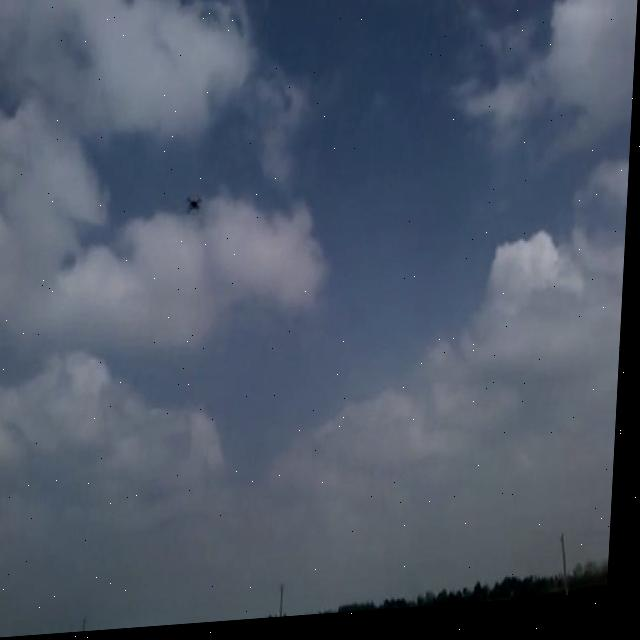drone: (185, 192, 206, 220)
